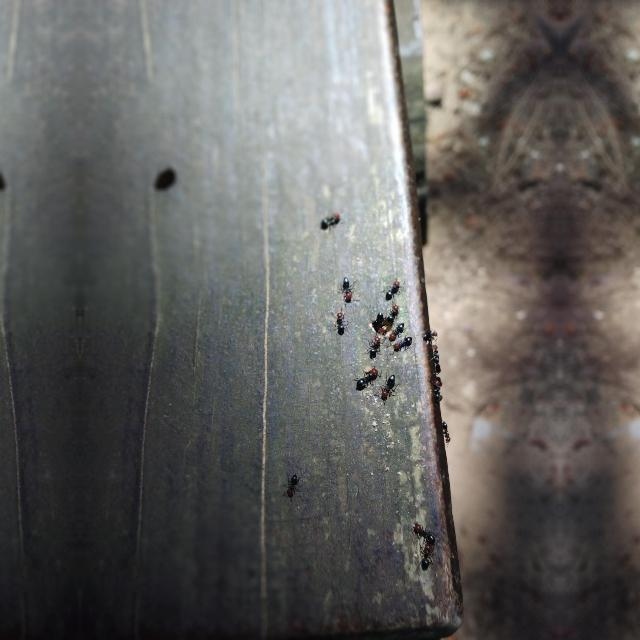Crematogaster: (352, 363, 378, 391), (410, 518, 438, 542), (416, 540, 436, 572), (382, 276, 402, 300), (386, 321, 406, 344), (331, 310, 347, 338), (318, 210, 344, 227), (380, 374, 398, 398), (338, 278, 357, 300), (282, 473, 298, 497), (366, 334, 382, 356), (440, 417, 452, 443), (431, 375, 442, 403), (388, 302, 402, 322), (392, 336, 411, 350), (423, 327, 439, 343), (372, 315, 386, 333), (430, 343, 440, 363)
